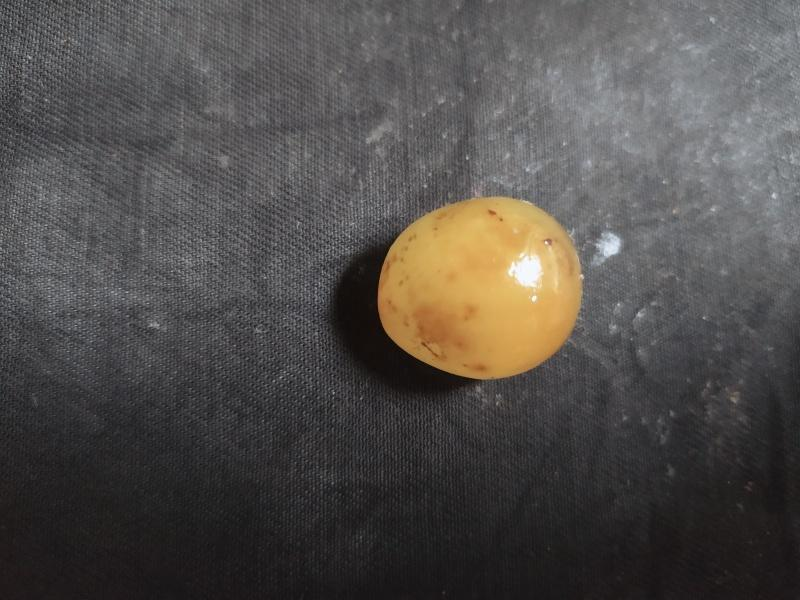Grape Rotten: (377, 193, 582, 382)
